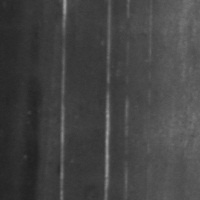scratches: (55, 1, 72, 199), (101, 2, 116, 199)
